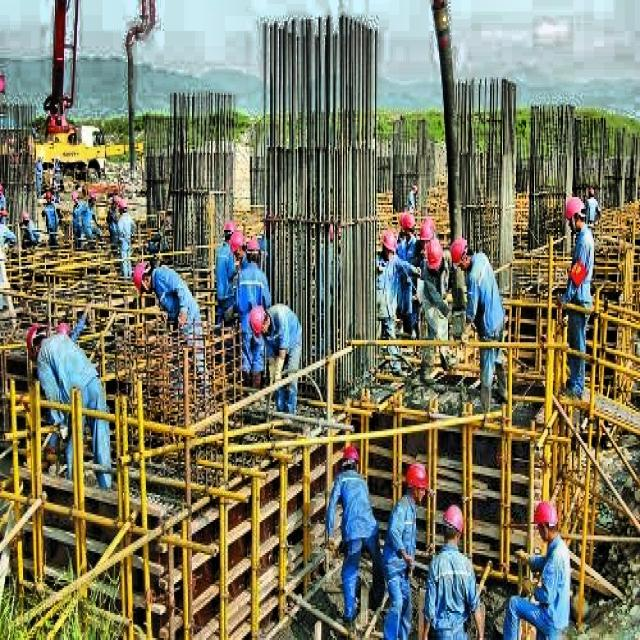helmet: (402, 458, 430, 507), (439, 499, 465, 551), (534, 499, 559, 545), (130, 255, 155, 298), (559, 193, 585, 234), (26, 321, 51, 362), (247, 304, 271, 336), (378, 226, 397, 265), (449, 234, 471, 267), (340, 444, 361, 478), (422, 238, 443, 272), (229, 228, 247, 263)
